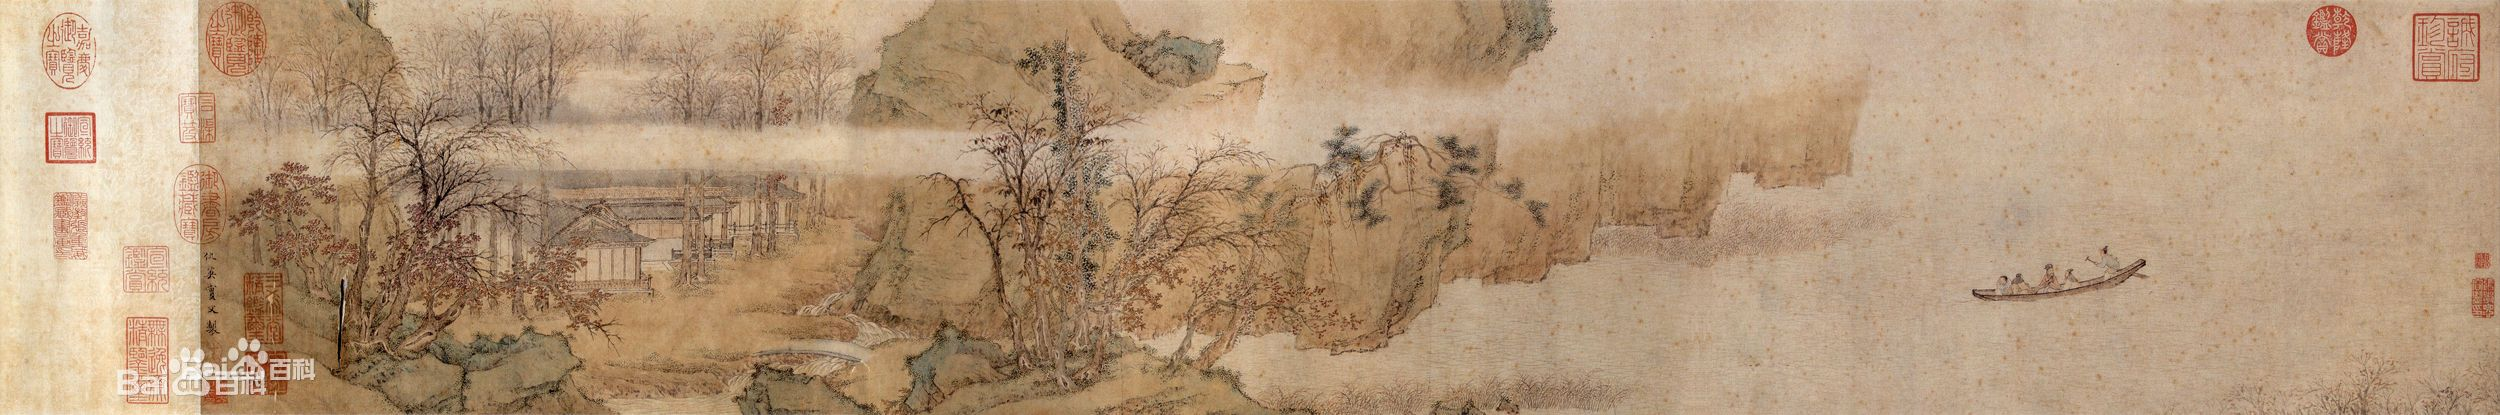boat: (1979, 244, 2152, 314)
house: (451, 169, 855, 321)
mountain: (882, 29, 1877, 342), (198, 2, 418, 415)
tree: (981, 67, 1357, 399), (258, 94, 599, 373), (424, 14, 872, 158)
